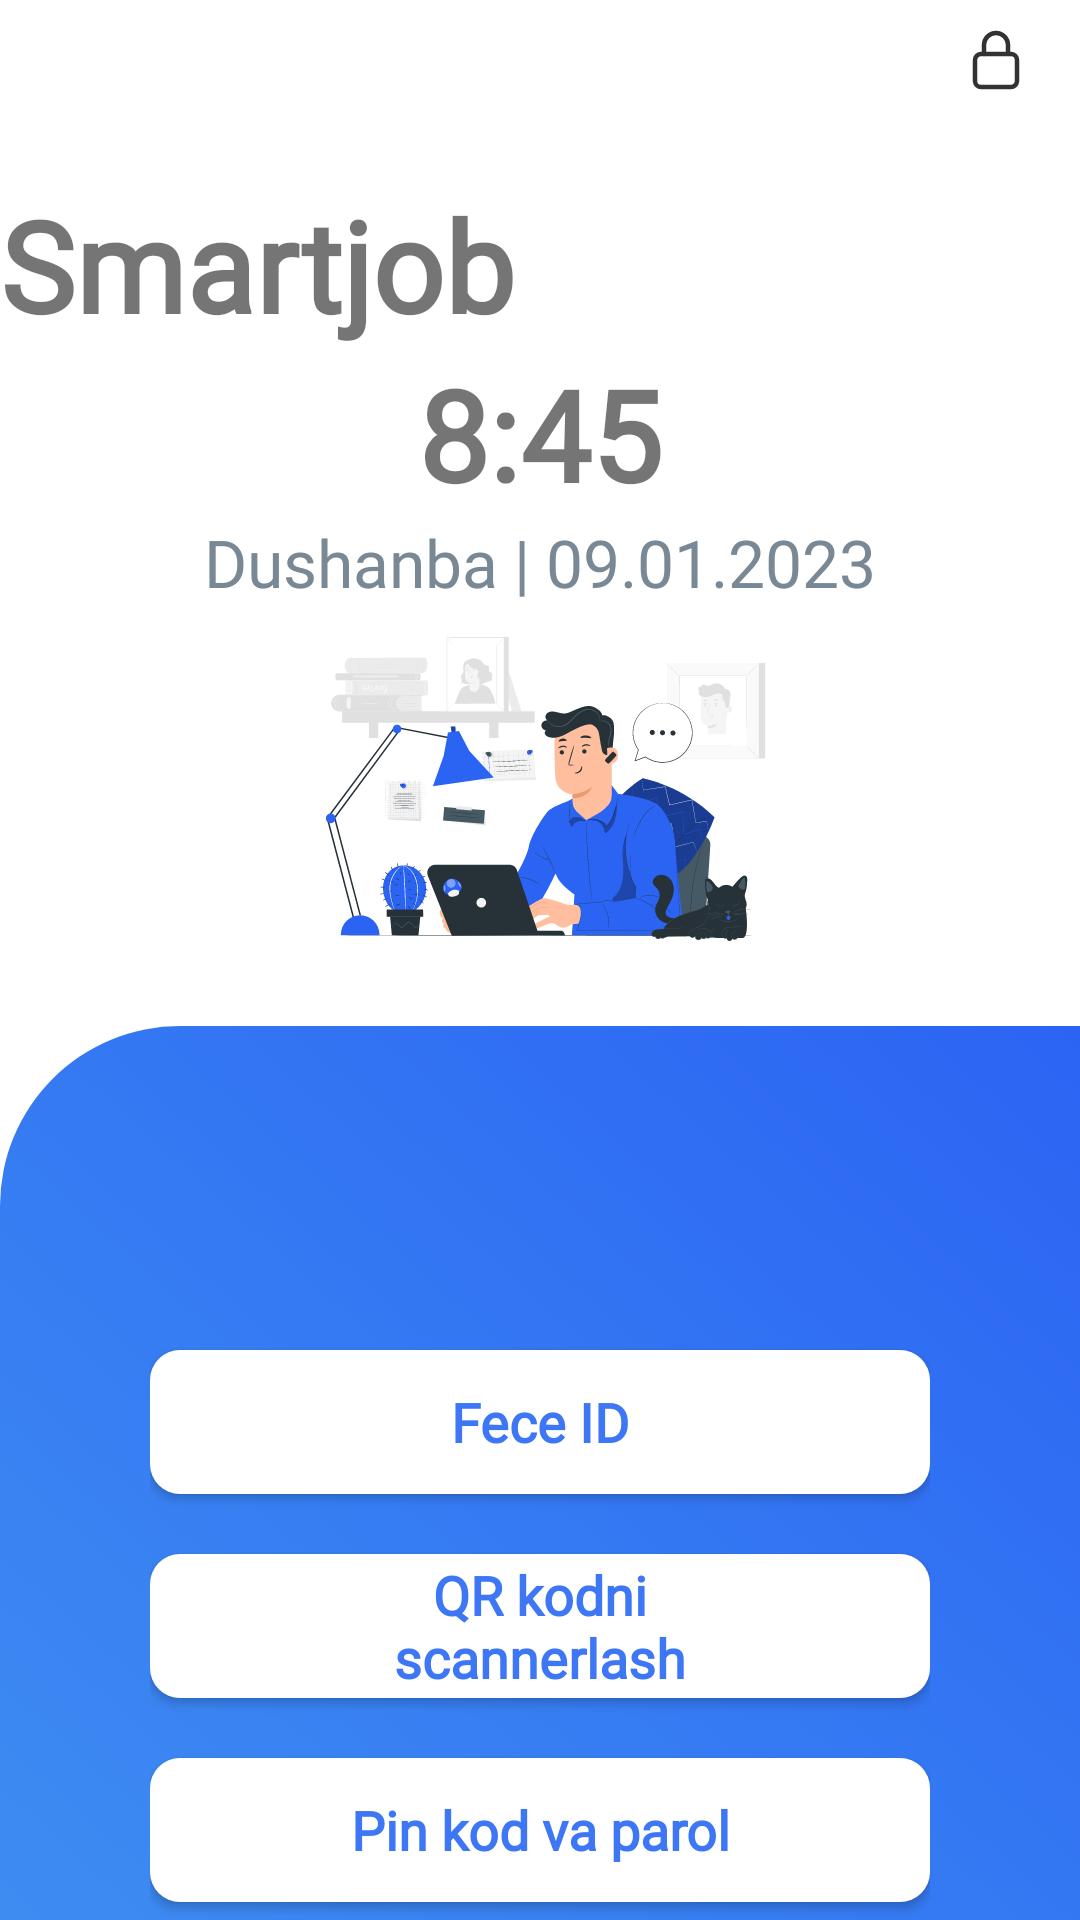

Named icons in this screenshot (1080px×1920px) and their centers, [x,y]:
lock: [996,60]
